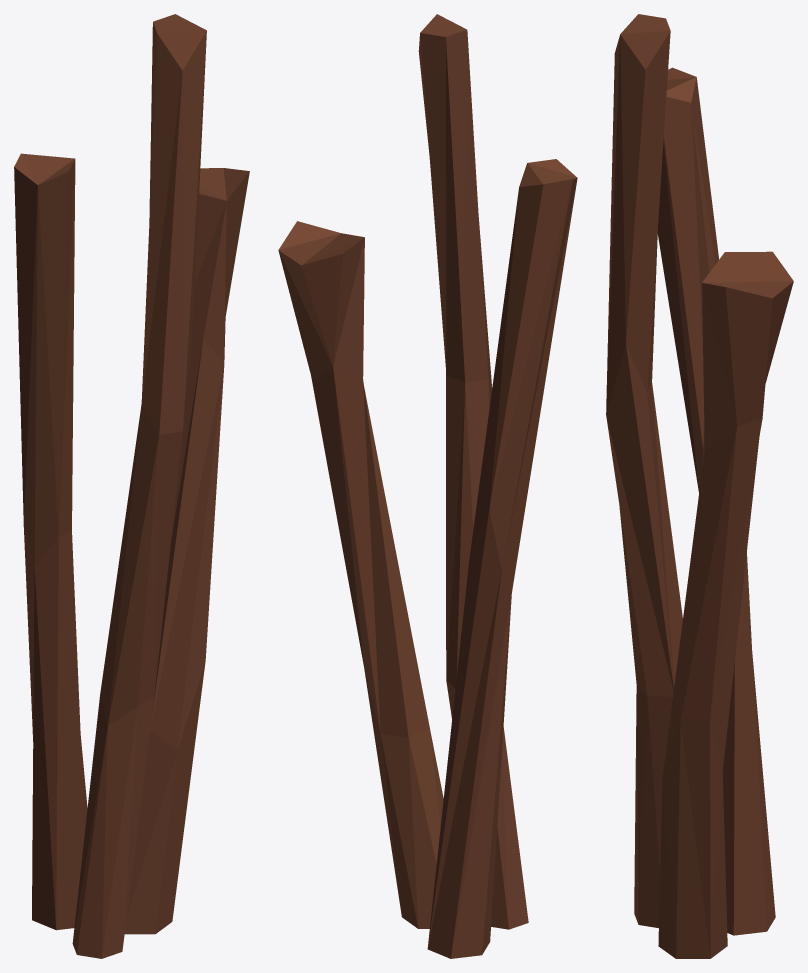
The model's file is Wooden Sticks_2.fbx.
The picture shows the model from 3 angles, left to right: view 1: azimuth 30°, elevation 25°; view 2: azimuth 150°, elevation 25°; view 3: azimuth 270°, elevation 25°; orthographic projection. The views are drawn at different scales.
Parts seen in each view (by area): view 1: Wooden Sticks_2; view 2: Wooden Sticks_2; view 3: Wooden Sticks_2.
Boxes of the visible parts, left/top/right/bottom form: Wooden Sticks_2: left=14, top=14, right=249, bottom=958; Wooden Sticks_2: left=278, top=14, right=577, bottom=958; Wooden Sticks_2: left=606, top=14, right=793, bottom=958.
Bounding box in the file's own units: 0.5307 × 1.76 × 0.3229.
